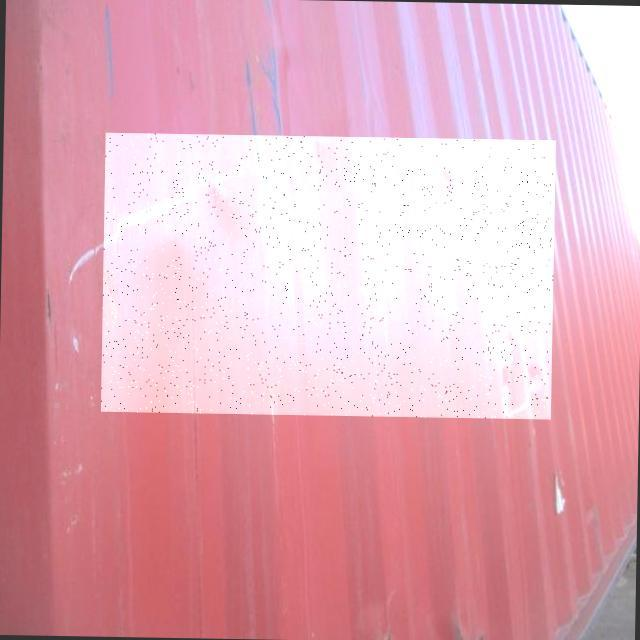Dent: (101, 132, 556, 419)
